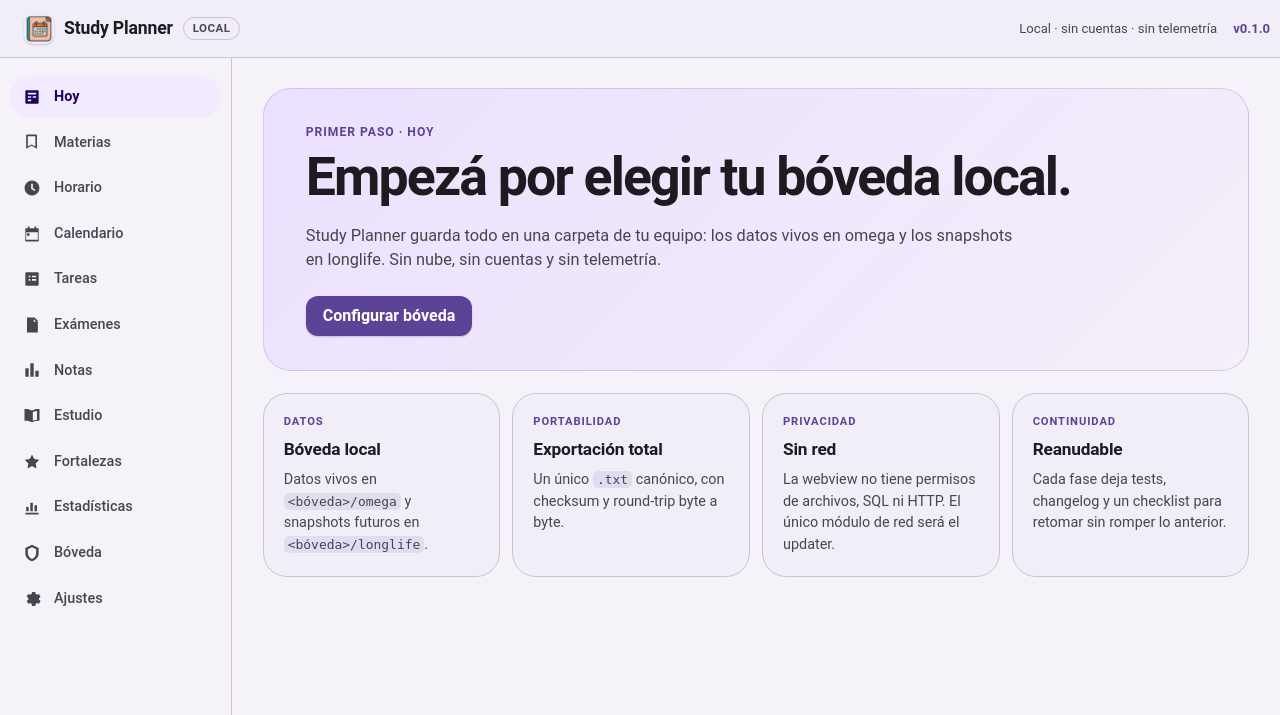
Test: App con IPC de Tauri › abre el selector y muestra la bóveda elegida
Click the button "Configurar bóveda" at (389, 316), box left=306, top=296, right=472, bottom=336
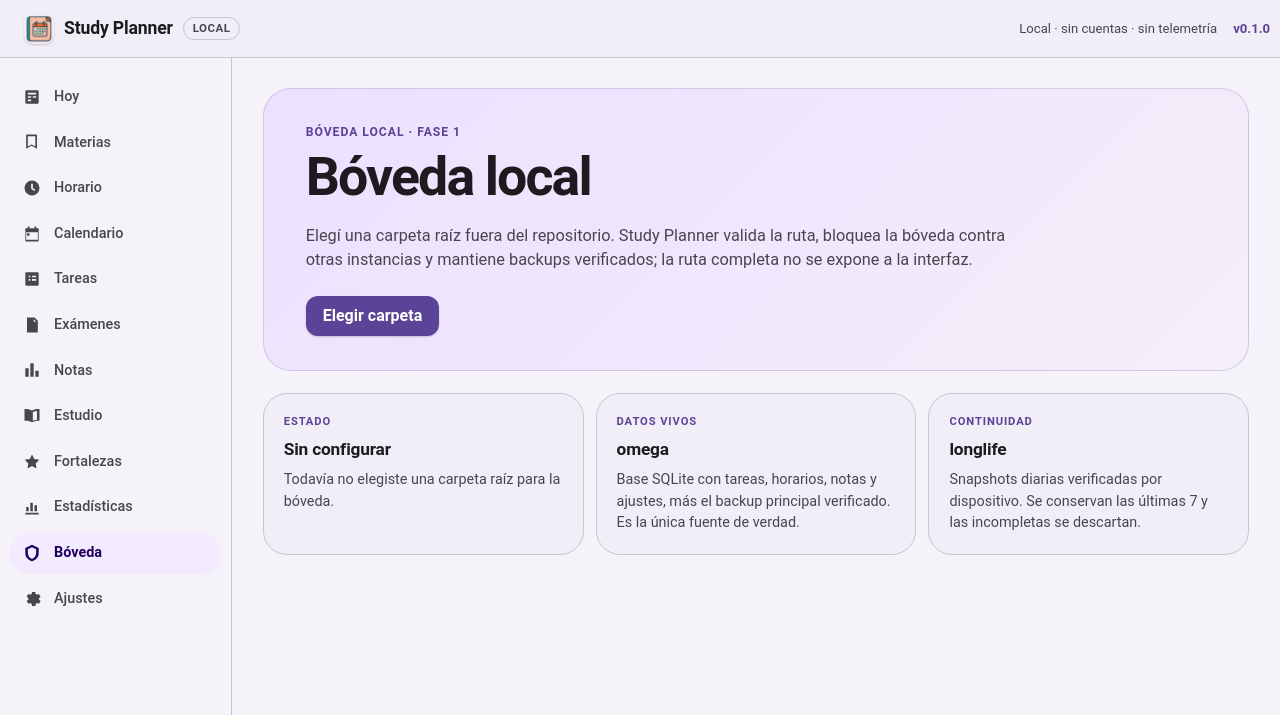
Click the button "Elegir carpeta" at (372, 316), box left=306, top=296, right=439, bottom=336
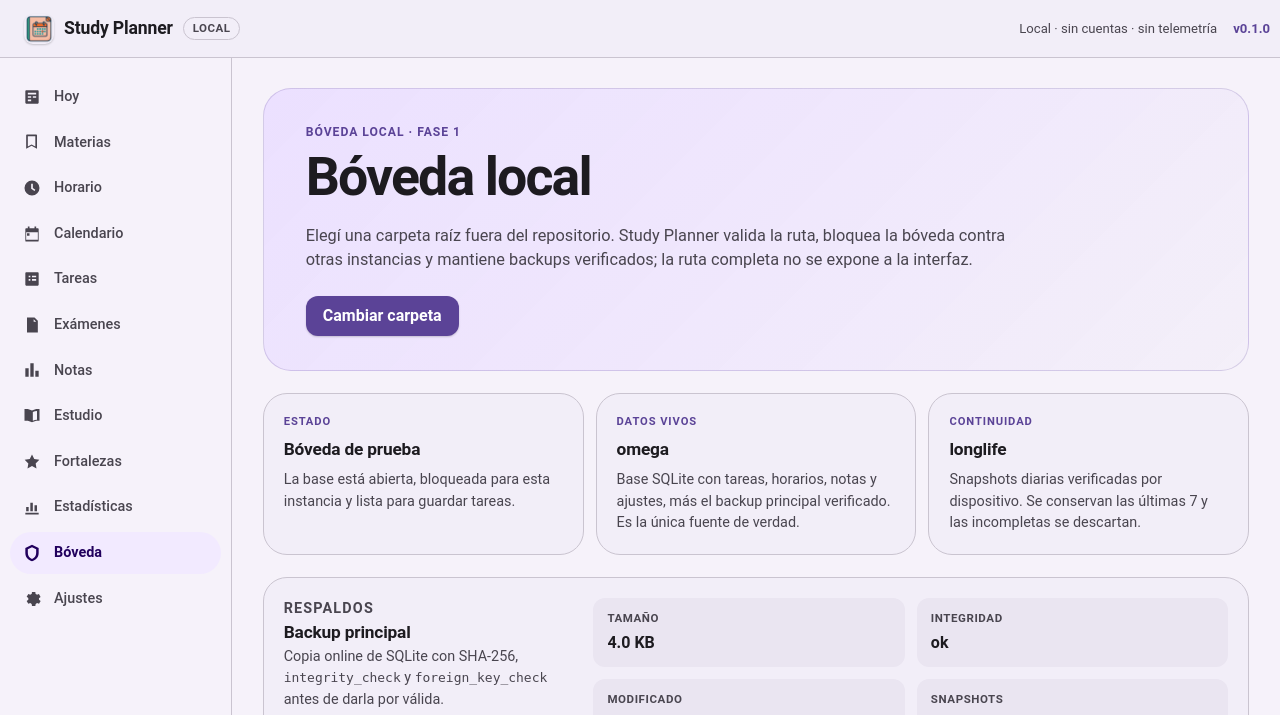
expect the heading "Bóveda de prueba" is shown: met, box left=284, top=439, right=420, bottom=459
expect the button "Cambiar carpeta" is shown: met, box left=306, top=296, right=459, bottom=336
